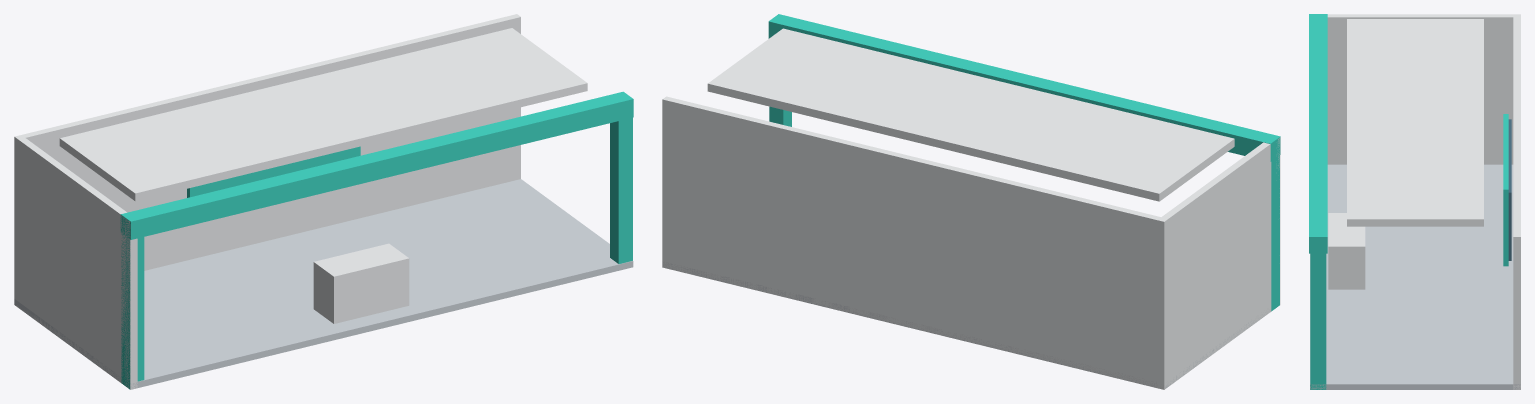
The picture shows the model from 3 angles, left to right: view 1: azimuth 30°, elevation 25°; view 2: azimuth 150°, elevation 25°; view 3: azimuth 270°, elevation 25°; orthographic projection. The views are drawn at different scales.
Visible parts, largest first — view 1: Exhibition Booth Concept; view 2: Exhibition Booth Concept; view 3: Exhibition Booth Concept.
Part boxes in pixels (<box>): Exhibition Booth Concept: <box>14,14,633,389</box>; Exhibition Booth Concept: <box>662,14,1280,389</box>; Exhibition Booth Concept: <box>1309,14,1520,389</box>.
Size of the model in its own units: 10 by 3.34 by 4.02.
